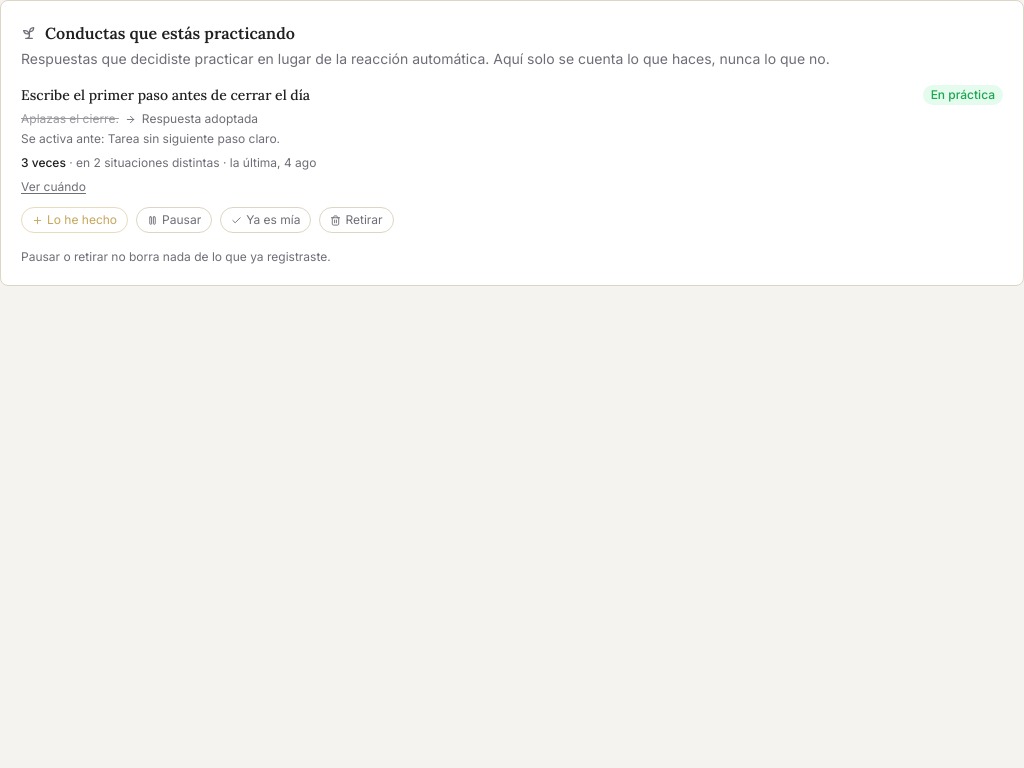
Test: Behaviours panel — registering an application (§8.6) › still works when the friction labels cannot be fetched
Click the button "Lo he hecho". click: (75, 220)
box: [21,207,128,233]
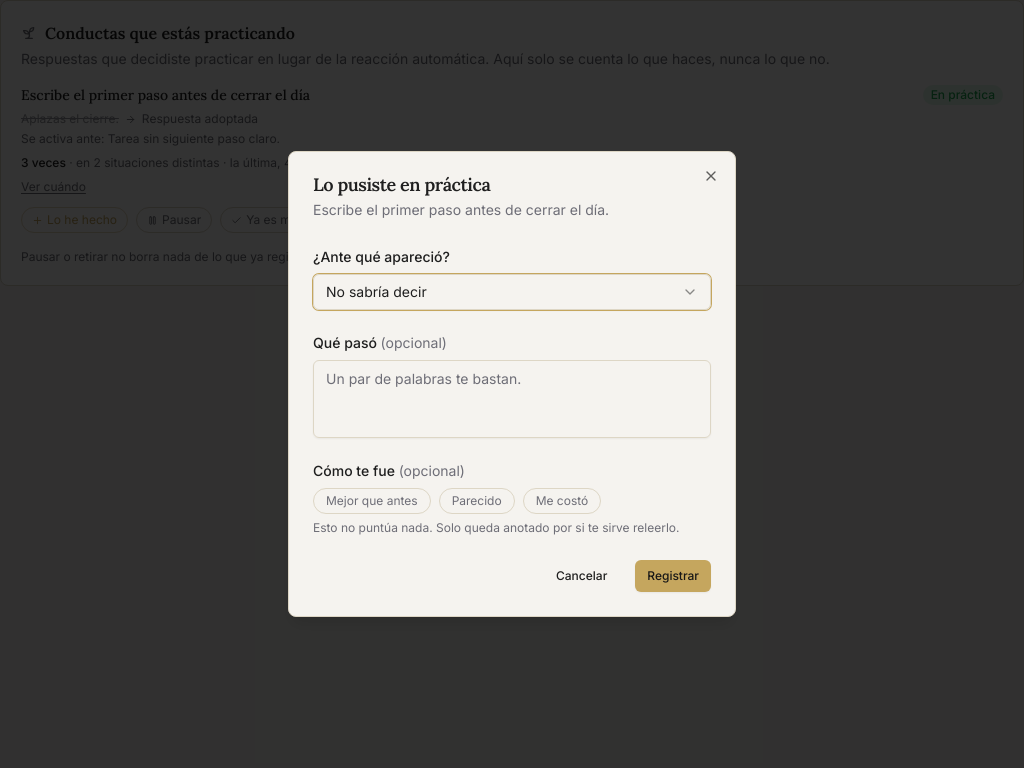
expect the dialog with test id "application-dialog" is shown: met, box [288,151,736,617]
expect the button "Registrar" is shown: met, box [635,560,711,592]
